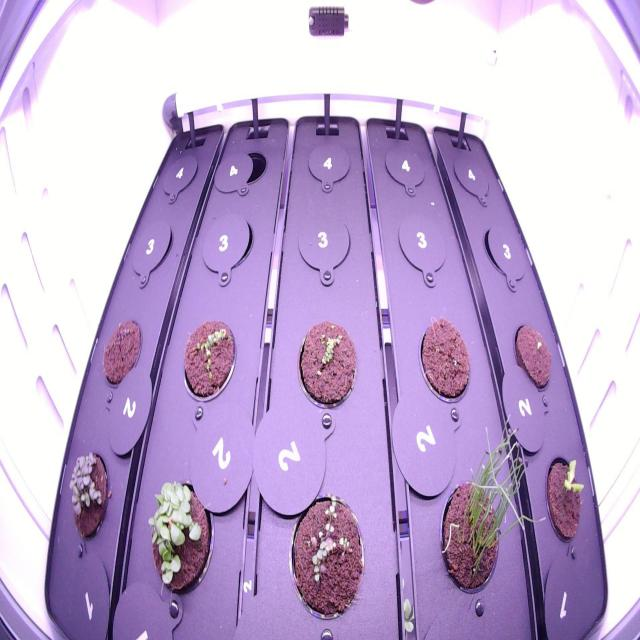empty_pod: (293, 207, 354, 285), (393, 206, 452, 286), (476, 218, 535, 294), (198, 208, 254, 279), (219, 134, 274, 196), (301, 134, 355, 196), (378, 137, 431, 200), (130, 212, 177, 282), (446, 144, 494, 208), (156, 142, 204, 202)
germination: (437, 410, 548, 602), (276, 485, 372, 625), (292, 313, 362, 422), (177, 310, 240, 412), (64, 447, 115, 552)
pod: (415, 306, 475, 412), (509, 310, 559, 402), (95, 308, 146, 398)
young: (540, 448, 590, 552)
